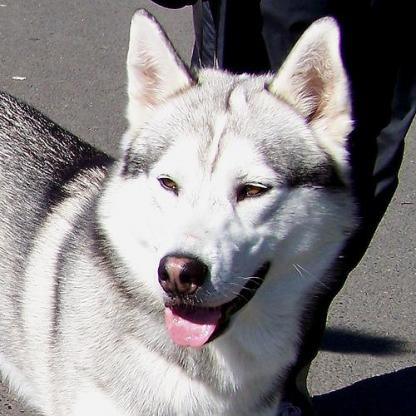Siberian_husky: (0, 5, 359, 413)
